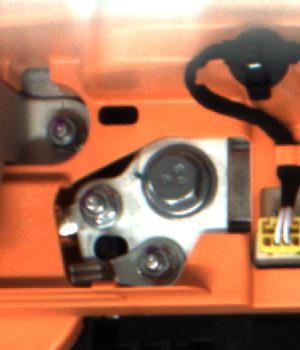nut_b: (134, 141, 217, 224)
screw_s: (137, 238, 174, 283), (83, 185, 118, 228), (46, 112, 78, 147)
